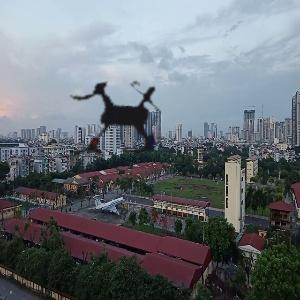drone: (19, 13, 224, 218)
